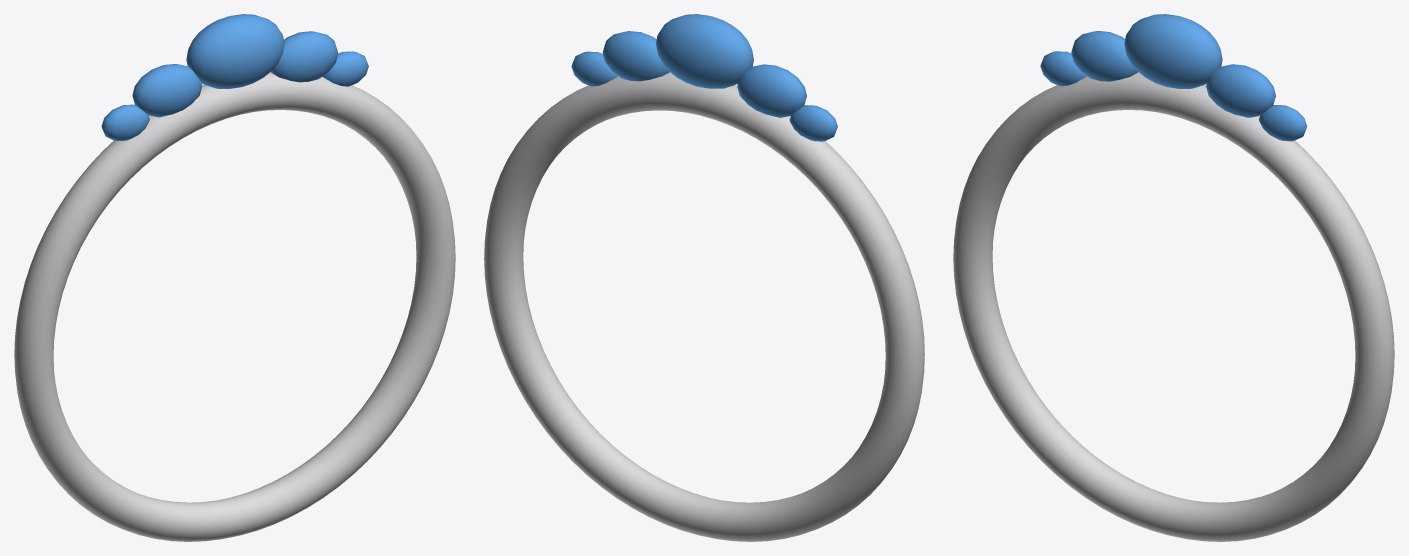
File: RewardItemBracelet.fbx
3 views of the same model, side by side, from view 1: azimuth 30°, elevation 25°; view 2: azimuth 150°, elevation 25°; view 3: azimuth 330°, elevation 25° (orthographic).
Parts seen in each view (by area): view 1: Bracelet.001; view 2: Bracelet.001; view 3: Bracelet.001.
Boxes of the visible parts, x1,y1,x2,y2 form: Bracelet.001: (14,14,455,541); Bracelet.001: (484,14,924,541); Bracelet.001: (953,14,1394,541).
Bounding box in the file's own units: 217 × 246 × 25.64.
